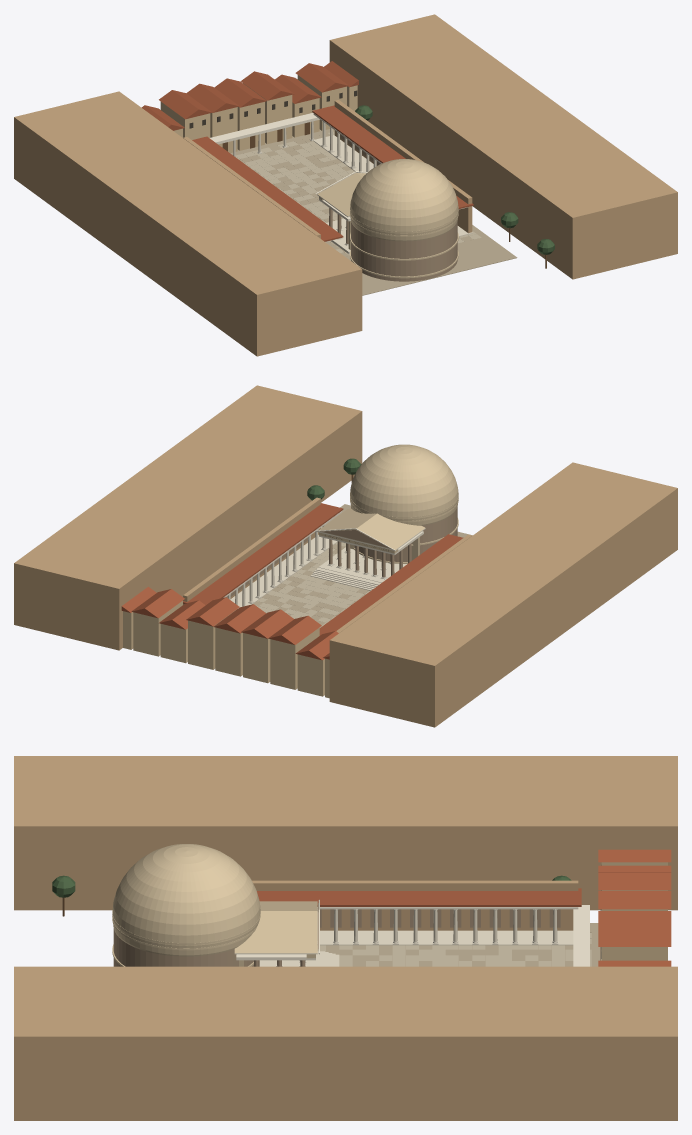
File: pantheon-forecourt.glb
3 views of the same model, one above another, from view 1: azimuth 30°, elevation 25°; view 2: azimuth 150°, elevation 25°; view 3: azimuth 270°, elevation 25° (orthographic). The views are drawn at different scales.
Parts seen in each view (by area): view 1: scenery_plaster, scenery_travertine, scenery_roof, scenery_plaster_light, scenery_paving, scenery_shadow_stone, rome125_pantheon_forecourt_colonnade_roof, scenery_paving_light, rome125_pantheon_forecourt_colonnade_plaster, scenery_trim, rome125_pantheon_forecourt_colonnade_marble, scenery_foliage (+1 smaller); view 2: scenery_plaster, scenery_travertine, scenery_plaster_light, scenery_roof, rome125_pantheon_forecourt_colonnade_roof, scenery_paving_light, rome125_pantheon_forecourt_colonnade_plaster, rome125_pantheon_forecourt_colonnade_marble, scenery_marble, scenery_paving, scenery_shadow_stone, rome125_pantheon_granite_columns_shadow_stone (+1 smaller); view 3: scenery_plaster, scenery_travertine, scenery_roof, rome125_pantheon_forecourt_colonnade_plaster, rome125_pantheon_forecourt_colonnade_marble, rome125_pantheon_forecourt_colonnade_roof, scenery_paving_light, scenery_paving, scenery_shadow_stone, rome125_pantheon_forecourt_colonnade_shadow_stone, scenery_trim, scenery_plaster_light (+2 smaller).
Part boxes in pixels (x1=…): scenery_plaster: x1=14, y1=14, x2=677, y2=356; scenery_travertine: x1=317, y1=159, x2=458, y2=278; scenery_roof: x1=141, y1=61, x2=358, y2=130; scenery_plaster_light: x1=160, y1=75, x2=357, y2=153; scenery_paving: x1=230, y1=129, x2=517, y2=295; scenery_shadow_stone: x1=351, y1=221, x2=457, y2=281; rome125_pantheon_forecourt_colonnade_roof: x1=192, y1=105, x2=473, y2=241; scenery_paving_light: x1=235, y1=131, x2=481, y2=260; rome125_pantheon_forecourt_colonnade_plaster: x1=183, y1=100, x2=472, y2=238; scenery_trim: x1=209, y1=113, x2=367, y2=221; rome125_pantheon_forecourt_colonnade_marble: x1=313, y1=122, x2=472, y2=236; scenery_foliage: x1=355, y1=105, x2=554, y2=254; scenery_plaster: x1=14, y1=385, x2=677, y2=727; scenery_travertine: x1=318, y1=444, x2=458, y2=563; scenery_plaster_light: x1=123, y1=601, x2=329, y2=698; scenery_roof: x1=121, y1=586, x2=338, y2=660; rome125_pantheon_forecourt_colonnade_roof: x1=183, y1=503, x2=463, y2=635; scenery_paving_light: x1=256, y1=527, x2=370, y2=626; rome125_pantheon_forecourt_colonnade_plaster: x1=183, y1=497, x2=472, y2=632; rome125_pantheon_forecourt_colonnade_marble: x1=228, y1=525, x2=337, y2=608; scenery_marble: x1=310, y1=547, x2=406, y2=590; scenery_paving: x1=253, y1=504, x2=472, y2=627; scenery_shadow_stone: x1=322, y1=507, x2=457, y2=561; rome125_pantheon_granite_columns_shadow_stone: x1=329, y1=539, x2=411, y2=577; scenery_plaster: x1=14, y1=756, x2=677, y2=1120; scenery_travertine: x1=112, y1=844, x2=317, y2=966; scenery_roof: x1=598, y1=849, x2=671, y2=966; rome125_pantheon_forecourt_colonnade_plaster: x1=252, y1=880, x2=578, y2=930; rome125_pantheon_forecourt_colonnade_marble: x1=317, y1=910, x2=573, y2=945; rome125_pantheon_forecourt_colonnade_roof: x1=257, y1=888, x2=581, y2=906; scenery_paving_light: x1=317, y1=933, x2=591, y2=966; scenery_paving: x1=326, y1=923, x2=601, y2=966; scenery_shadow_stone: x1=113, y1=903, x2=318, y2=966; rome125_pantheon_forecourt_colonnade_shadow_stone: x1=320, y1=909, x2=560, y2=927; scenery_trim: x1=234, y1=899, x2=589, y2=966; scenery_plaster_light: x1=601, y1=862, x2=667, y2=960.
Size of what is drawn, in the model's own units: 200 by 43.25 by 200.
